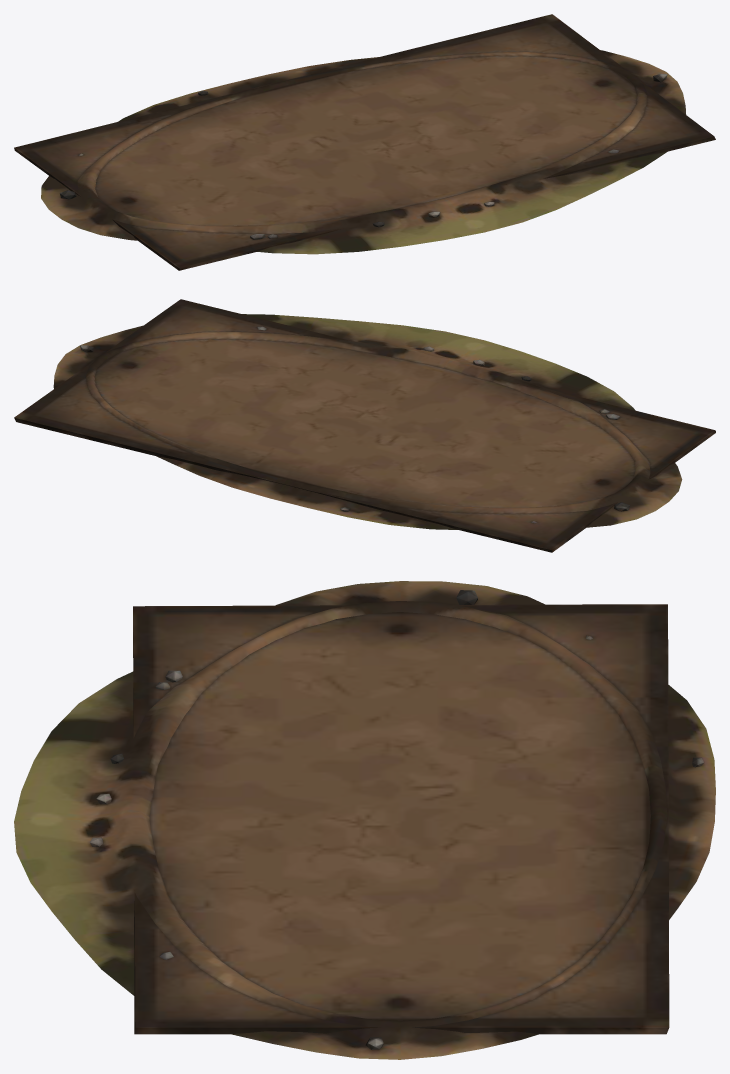
File: longhouse_floor.gltf
3 views of the same model, one above another, from view 1: azimuth 30°, elevation 25°; view 2: azimuth 150°, elevation 25°; view 3: azimuth 270°, elevation 25° (orthographic). The views are drawn at different scales.
Visible parts, largest first — view 1: longhouse_floor; view 2: longhouse_floor; view 3: longhouse_floor.
Part boxes in pixels (x1=…): longhouse_floor: x1=14, y1=14, x2=715, y2=270; longhouse_floor: x1=14, y1=299, x2=715, y2=552; longhouse_floor: x1=14, y1=581, x2=715, y2=1059.
Size of the model in its own units: 7.66 by 0.094 by 4.75.
Materials: 3 (3 with a texture image).
